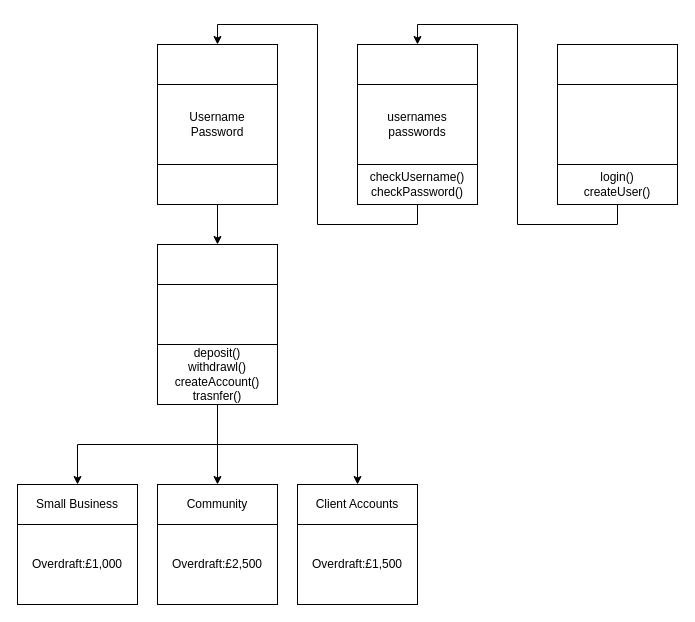
Image size: 695x622. Some labels were removed from this diagram. The shapes that lost their labels are listed below. From the top down, each one's centre as x and y in pixels, then its label:
At pixel 217 64: "User".
At pixel 417 64: "Login".
At pixel 617 64: "Menu".
At pixel 217 264: "Account".
At pixel 217 314: "Balance Overdraft".
